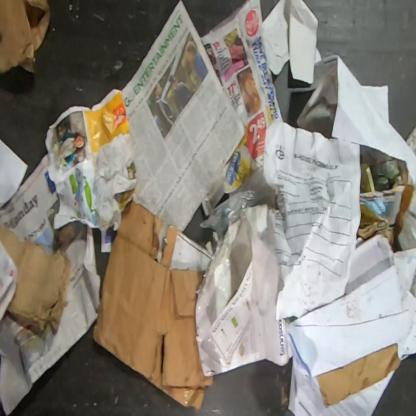cardboard: (93, 198, 215, 412), (0, 222, 72, 332), (316, 343, 402, 406), (357, 163, 414, 253), (0, 0, 52, 77)
soft_plastic: (195, 219, 253, 377), (200, 190, 256, 241)
